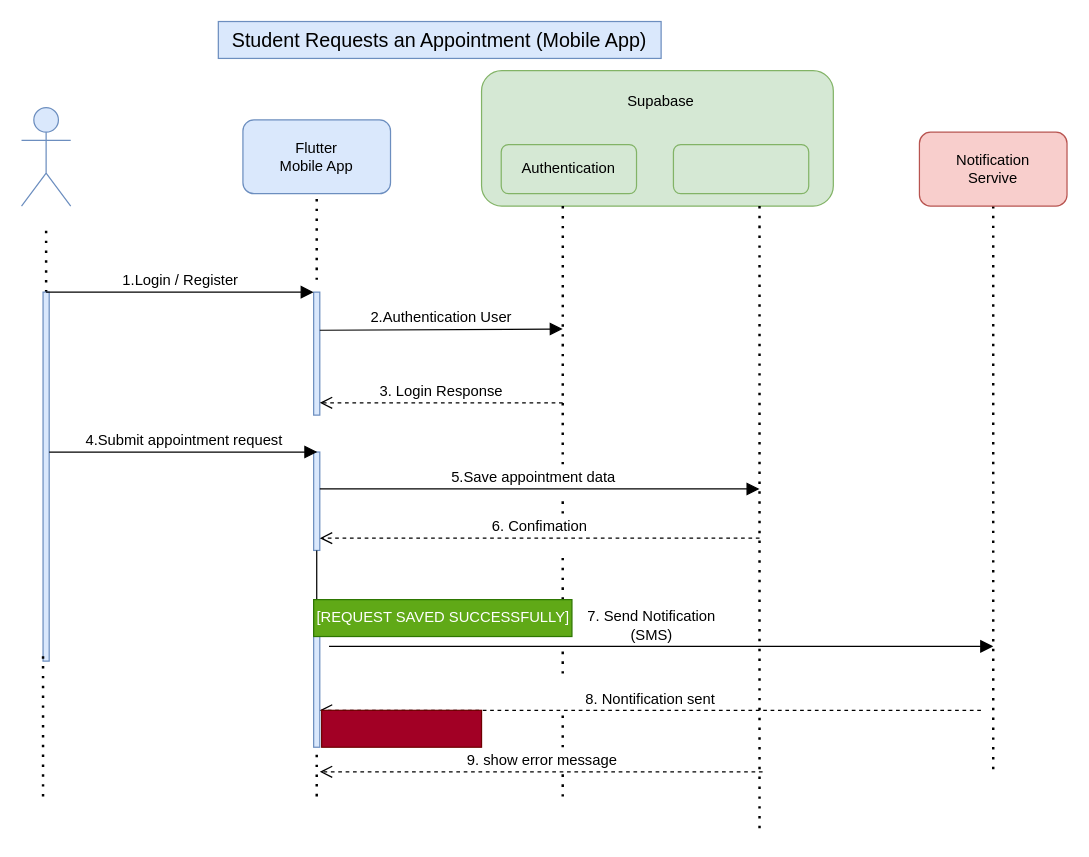
Image size: 1089x857. Some labels were removed from this diagram. The shapes that lost their labels are listed below. From the top down, each one's box as (x1, y1, x2, y2) in pixels, then its label:
(20, 106, 71, 206): Student
(672, 143, 809, 194): Database
(320, 709, 482, 747): [ REQUEST FAILED]
